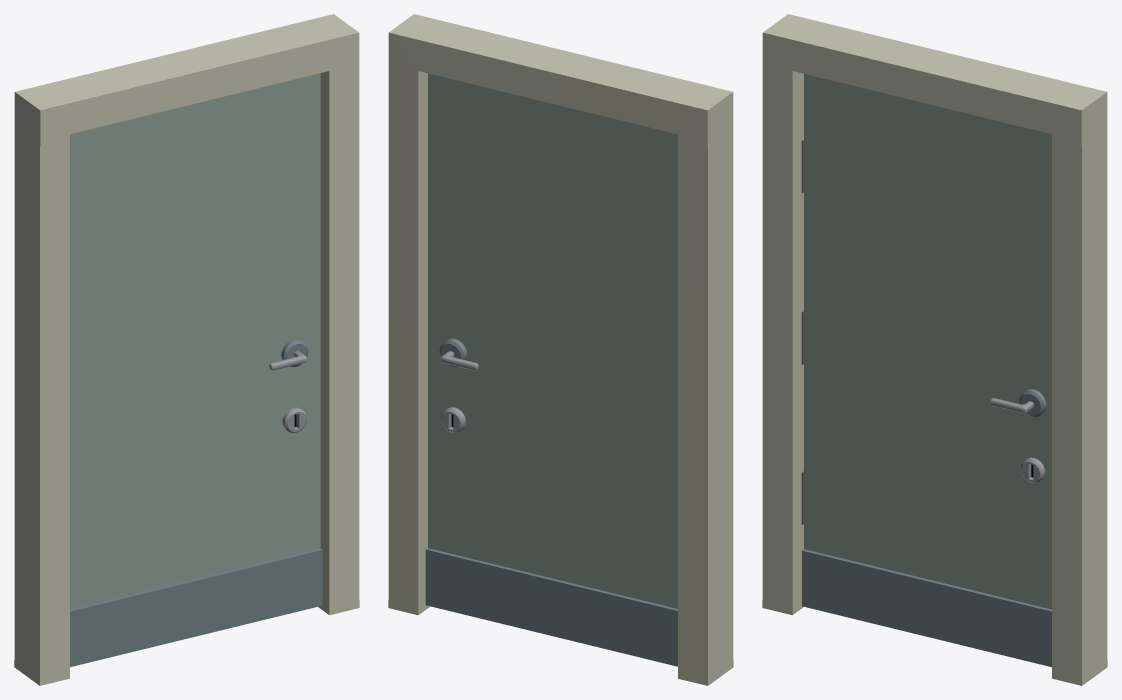
The model's file is Janitor_s_Cupboard_Door.fbx.
3 renders of one model, left to right at view 1: azimuth 30°, elevation 25°; view 2: azimuth 150°, elevation 25°; view 3: azimuth 330°, elevation 25°, orthographic.
Visible parts, largest first — view 1: pCylinder132, pCube83, pCylinder115; view 2: pCylinder132, pCube83, pCylinder114; view 3: pCylinder132, pCube83, pCylinder115.
Part boxes in pixels (x1,y1,x2,y2): pCylinder132: (70, 73, 322, 667); pCube83: (14, 14, 359, 685); pCylinder115: (269, 339, 308, 370); pCylinder132: (425, 73, 677, 666); pCube83: (388, 14, 733, 685); pCylinder114: (439, 338, 478, 370); pCylinder132: (802, 74, 1051, 667); pCube83: (762, 14, 1107, 685); pCylinder115: (990, 389, 1046, 417).
Size of the model in its own units: 1.23 by 2.12 by 0.2026.
